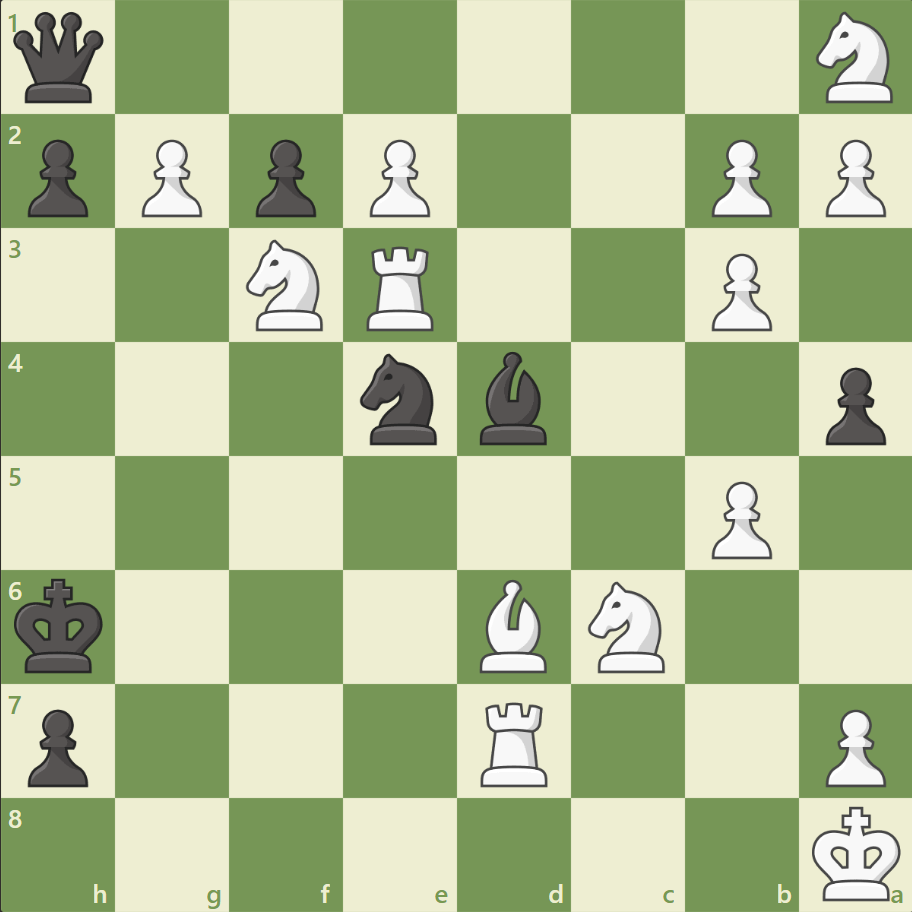B: (471, 574, 555, 676)
K: (806, 798, 906, 906)
N: (238, 234, 335, 337), (806, 7, 903, 110), (579, 575, 676, 677)
P: (701, 473, 776, 564), (701, 246, 776, 337), (701, 132, 776, 223), (133, 132, 208, 223), (815, 700, 889, 791), (815, 132, 889, 223), (361, 132, 435, 223)
R: (473, 693, 556, 790), (360, 239, 442, 336)
b: (471, 347, 555, 449)
k: (11, 571, 111, 679)
n: (351, 348, 449, 450)
p: (20, 700, 95, 791), (247, 132, 322, 223), (20, 132, 95, 223), (815, 359, 889, 450)
q: (10, 9, 109, 108)
